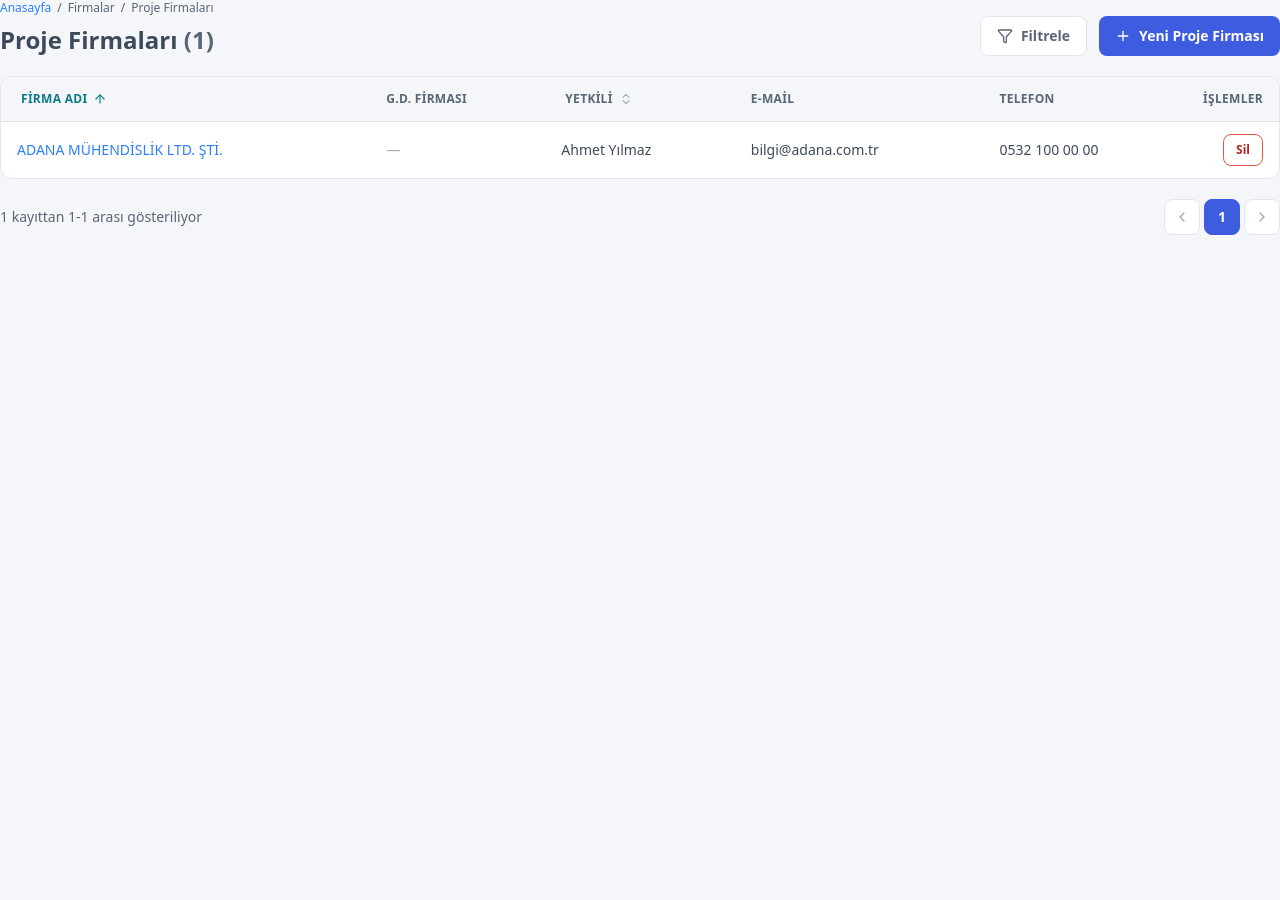
Test case: proje firması silme › diğer hatalarda tekrar denemeyi öneren mesaj gösterir
The image size is (1280, 900).
Click the button "Sil" at (1243, 150), box [1223,134,1263,166]
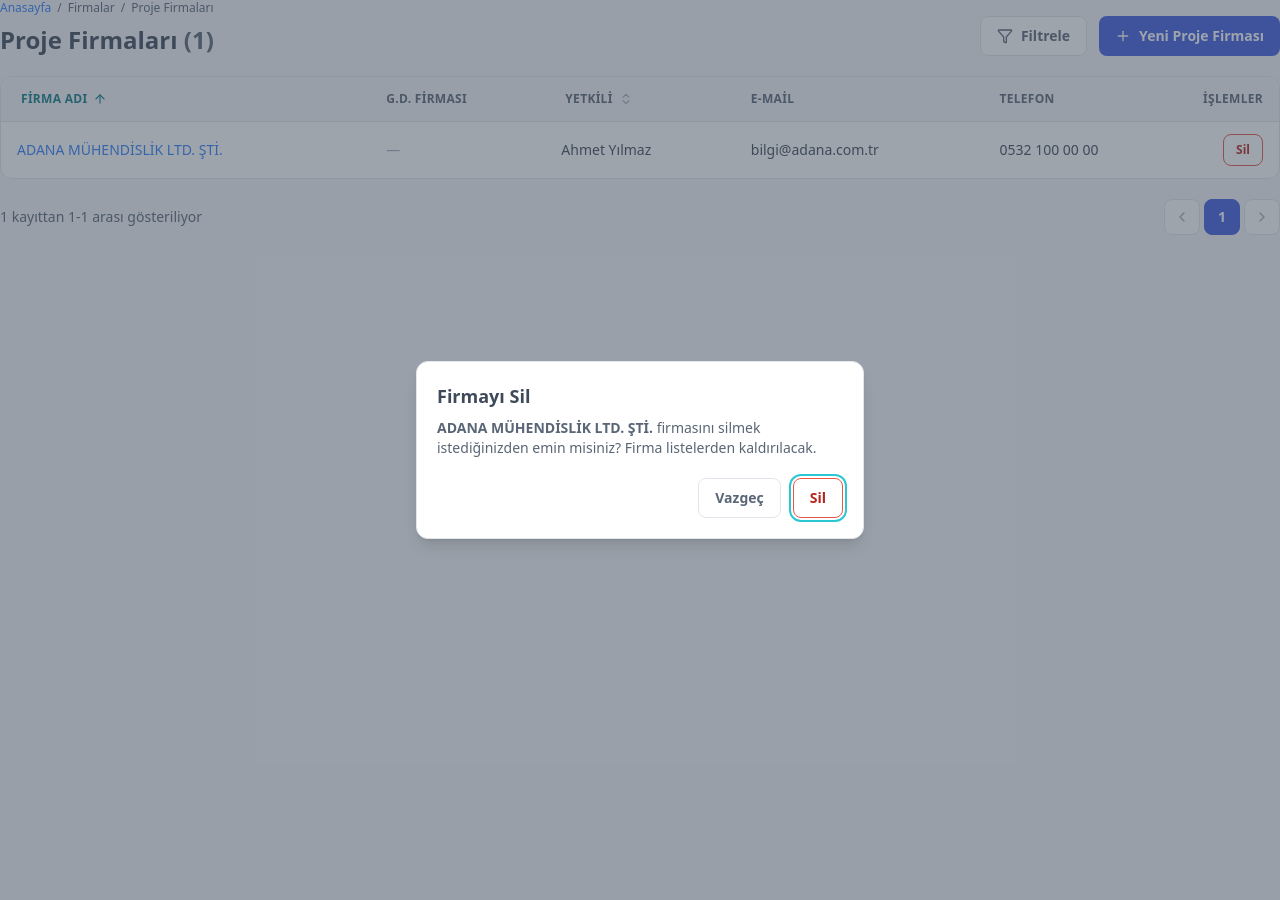
Click the button "Sil" at (818, 498), box [793,478,843,518]
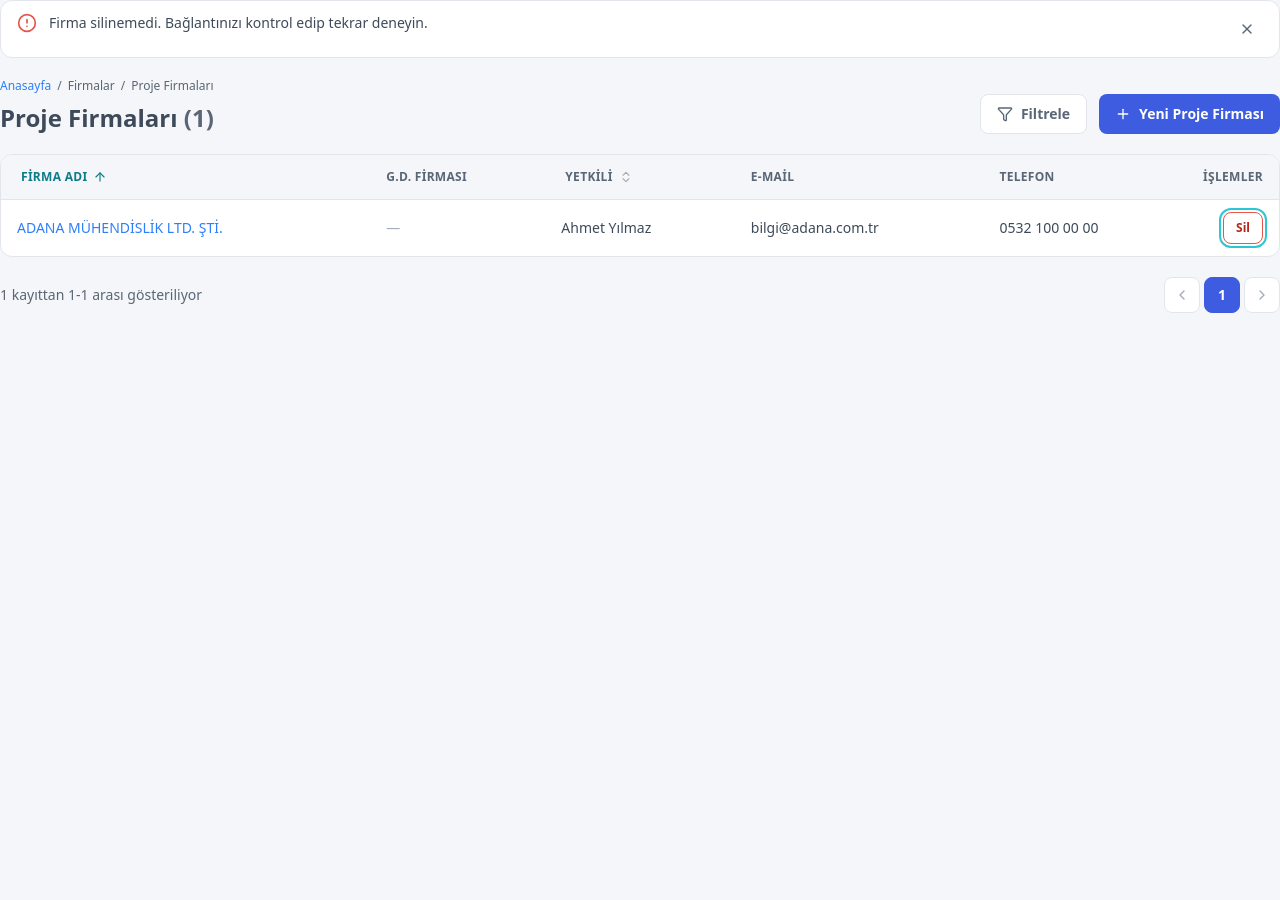
Now the message shows "Firma silinemedi", box [49,13,428,32]
